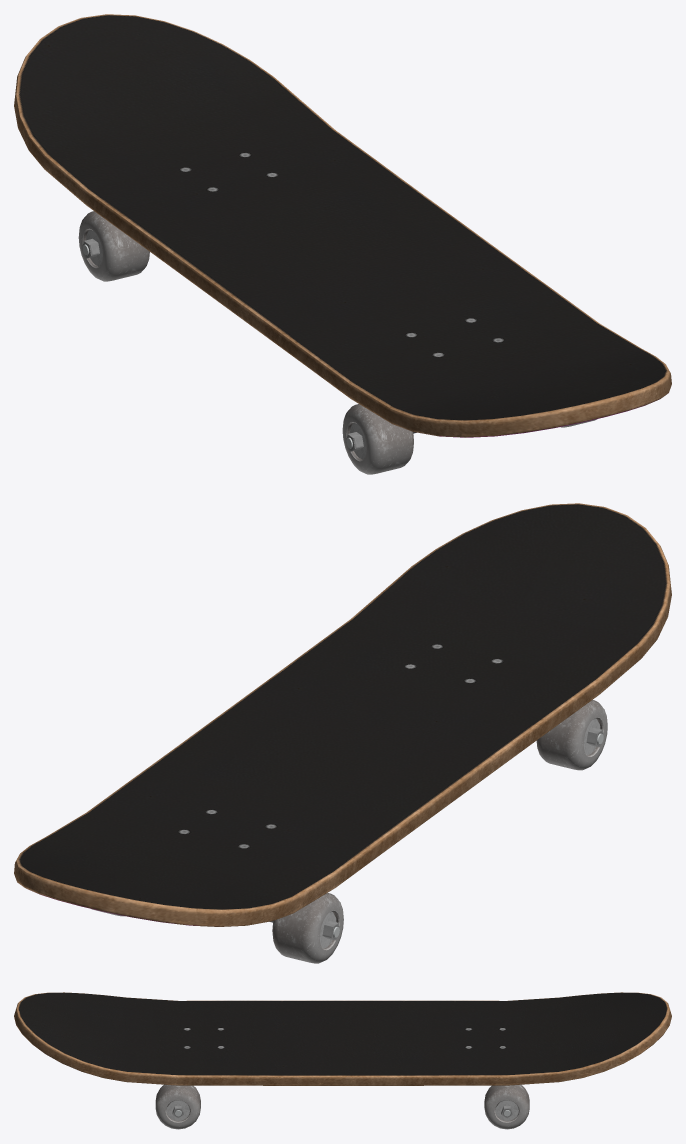
Rendered from skate.glb.
3 renders of one model, top to bottom at view 1: azimuth 30°, elevation 25°; view 2: azimuth 150°, elevation 25°; view 3: azimuth 270°, elevation 25°, orthographic. The views are drawn at different scales.
Visible parts, largest first — view 1: skate_low_04, skate_low_01; view 2: skate_low_04, skate_low_01; view 3: skate_low_04, skate_low_01, skate_low_02.
Boxes of the visible parts, x1,y1,x2,y2 form: skate_low_04: [14, 14, 671, 437]; skate_low_01: [78, 211, 413, 474]; skate_low_04: [14, 503, 671, 926]; skate_low_01: [91, 700, 607, 963]; skate_low_04: [14, 992, 671, 1085]; skate_low_01: [484, 1084, 529, 1129]; skate_low_02: [155, 1084, 200, 1129].
Bounding box in the file's own units: 0.0965 × 0.0512 × 0.3506.
1 material, 1 textured.
